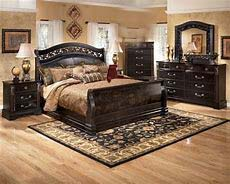copymove: (37, 17, 63, 49)
removal: (128, 27, 144, 48)
spliced: (105, 62, 126, 83)
